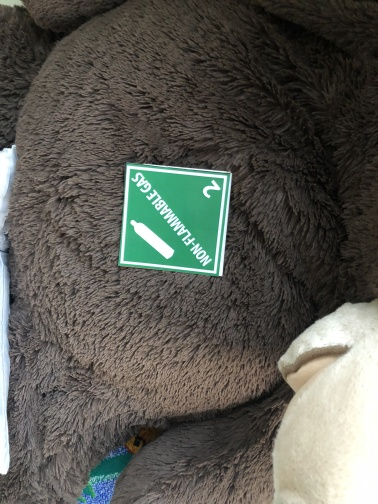NonFlammableGas: (117, 161, 232, 279)
